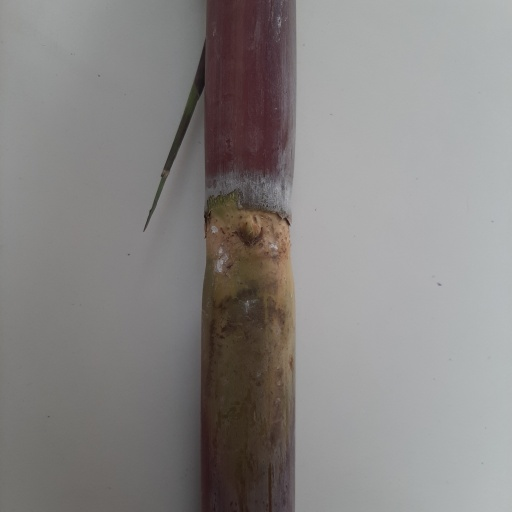Bud: (238, 213, 267, 247)
